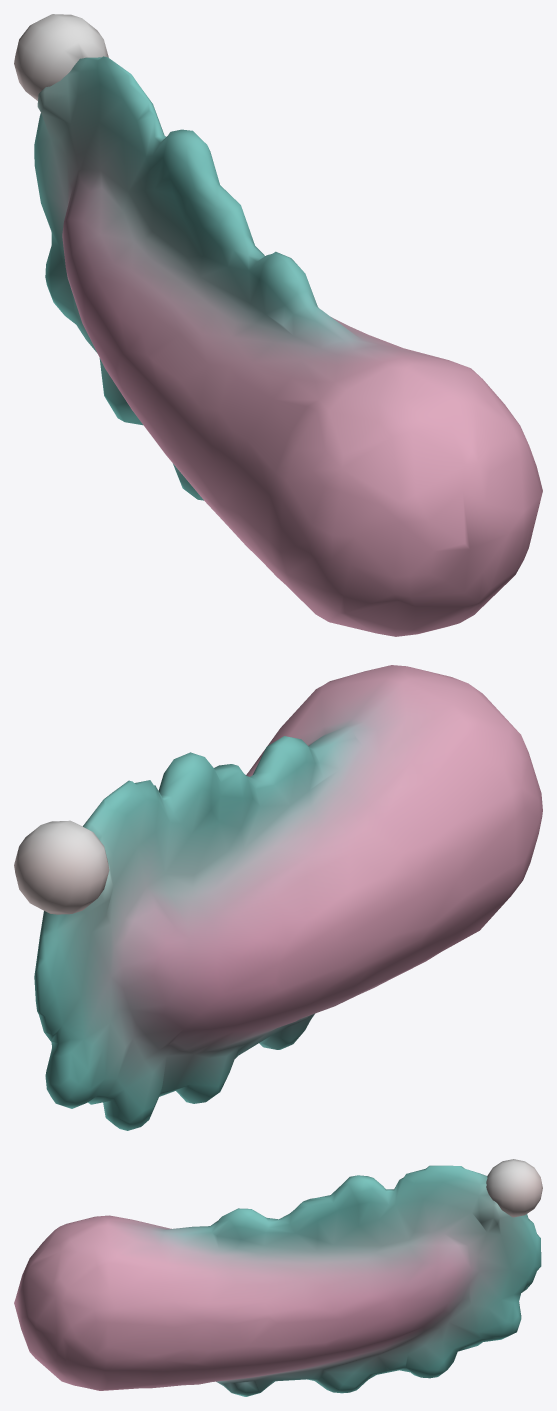
Rendered from water-tail.glb.
The picture shows the model from 3 angles, top to bottom: view 1: azimuth 30°, elevation 25°; view 2: azimuth 150°, elevation 25°; view 3: azimuth 270°, elevation 25°; orthographic projection. The views are drawn at different scales.
Visible parts, largest first — view 1: water-tail; view 2: water-tail; view 3: water-tail.
Part boxes in pixels (bbox=[...]): water-tail: bbox=[14, 14, 542, 636]; water-tail: bbox=[14, 665, 542, 1130]; water-tail: bbox=[14, 1159, 542, 1396].
Size of the model in its own units: 0.1119 by 0.1682 by 0.3427.
